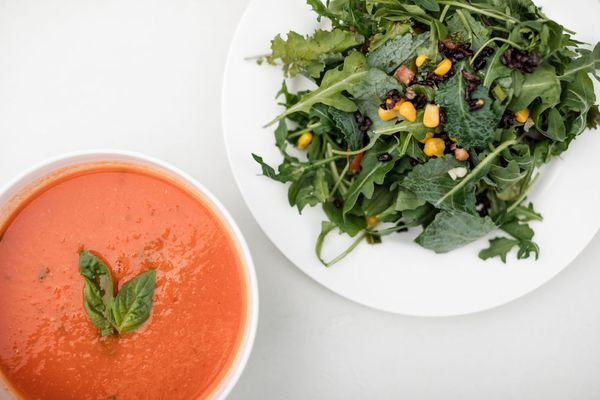sushi: (220, 0, 600, 322), (0, 150, 260, 396)
taco: (0, 149, 259, 396)
